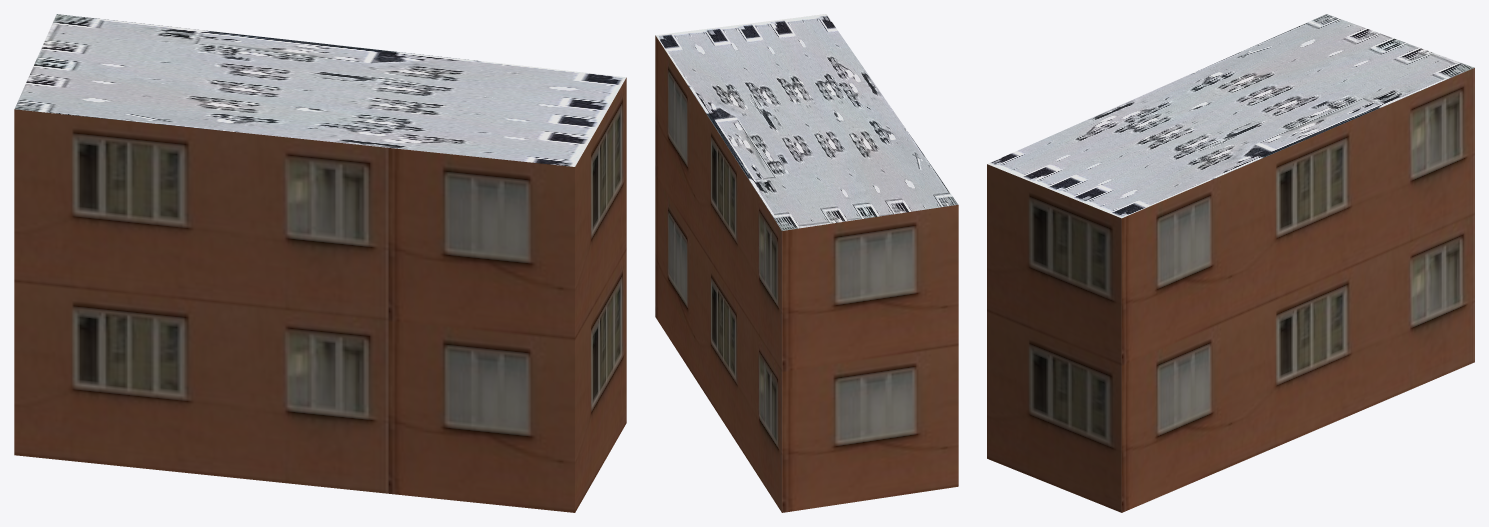
Rendered from ResTex__1283.fbx.
The picture shows the model from 3 angles, left to right: view 1: azimuth 30°, elevation 25°; view 2: azimuth 150°, elevation 25°; view 3: azimuth 270°, elevation 25°; orthographic projection. The views are drawn at different scales.
Parts seen in each view (by area): view 1: CityEngineMaterial_20_m, CityEngineMaterial_m; view 2: CityEngineMaterial_20_m, CityEngineMaterial_m; view 3: CityEngineMaterial_20_m, CityEngineMaterial_m.
Part boxes in pixels (left/top/right/bottom): CityEngineMaterial_20_m: left=14, top=77, right=626, bottom=512; CityEngineMaterial_m: left=14, top=14, right=626, bottom=166; CityEngineMaterial_20_m: left=655, top=35, right=958, bottom=512; CityEngineMaterial_m: left=656, top=14, right=958, bottom=230; CityEngineMaterial_20_m: left=987, top=68, right=1474, bottom=512; CityEngineMaterial_m: left=987, top=14, right=1474, bottom=218.
Size of the model in its own units: 8.93 by 6 by 9.01.
Materials: 2 (2 with a texture image).
